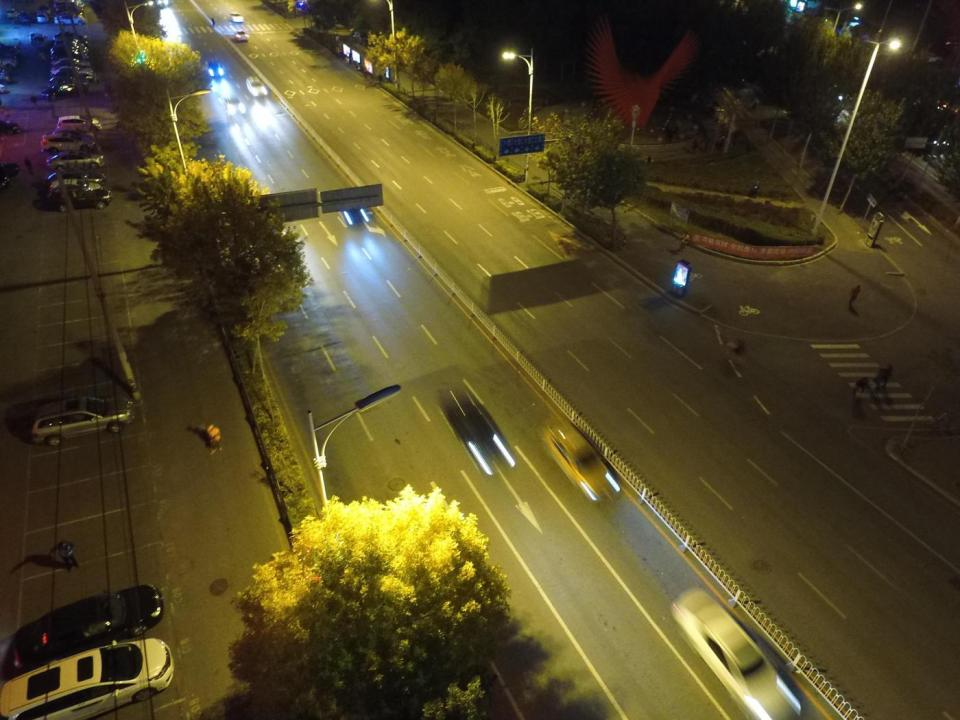car: (670, 578, 801, 719), (1, 637, 170, 720), (3, 584, 165, 668), (538, 416, 624, 512), (443, 397, 522, 481), (51, 186, 111, 212), (47, 152, 106, 172), (50, 180, 103, 200), (338, 194, 371, 226), (55, 115, 105, 135), (49, 172, 104, 188), (52, 31, 95, 49), (221, 84, 245, 116), (40, 84, 90, 98), (53, 39, 90, 55), (52, 66, 95, 79), (54, 38, 96, 51), (47, 76, 95, 87), (50, 70, 98, 81), (49, 44, 92, 56), (51, 57, 92, 69), (50, 49, 91, 61), (245, 76, 267, 98), (206, 58, 227, 80), (54, 12, 87, 26), (350, 29, 370, 46), (16, 13, 33, 27), (54, 7, 85, 14), (233, 30, 251, 42), (33, 32, 48, 45), (28, 32, 41, 47), (230, 12, 245, 24), (35, 13, 51, 23), (37, 5, 49, 13)
van: (27, 398, 136, 446), (40, 132, 96, 156), (51, 1, 86, 11)
